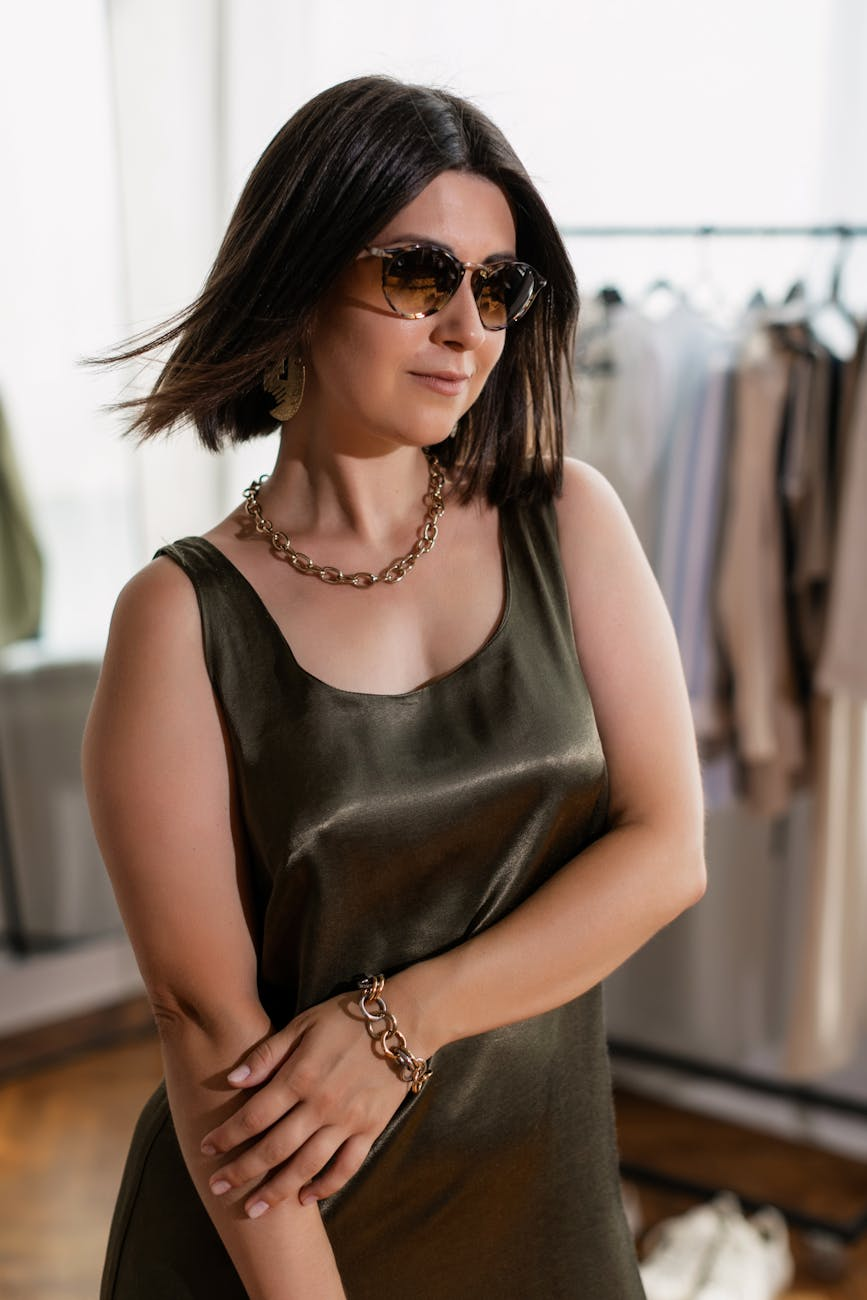sleeveless_top: (140, 458, 657, 1001)
